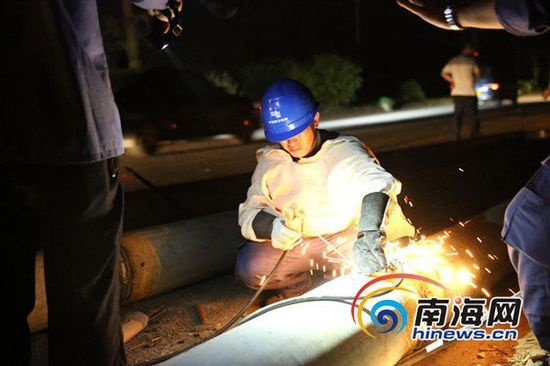blue: (257, 76, 320, 159)
